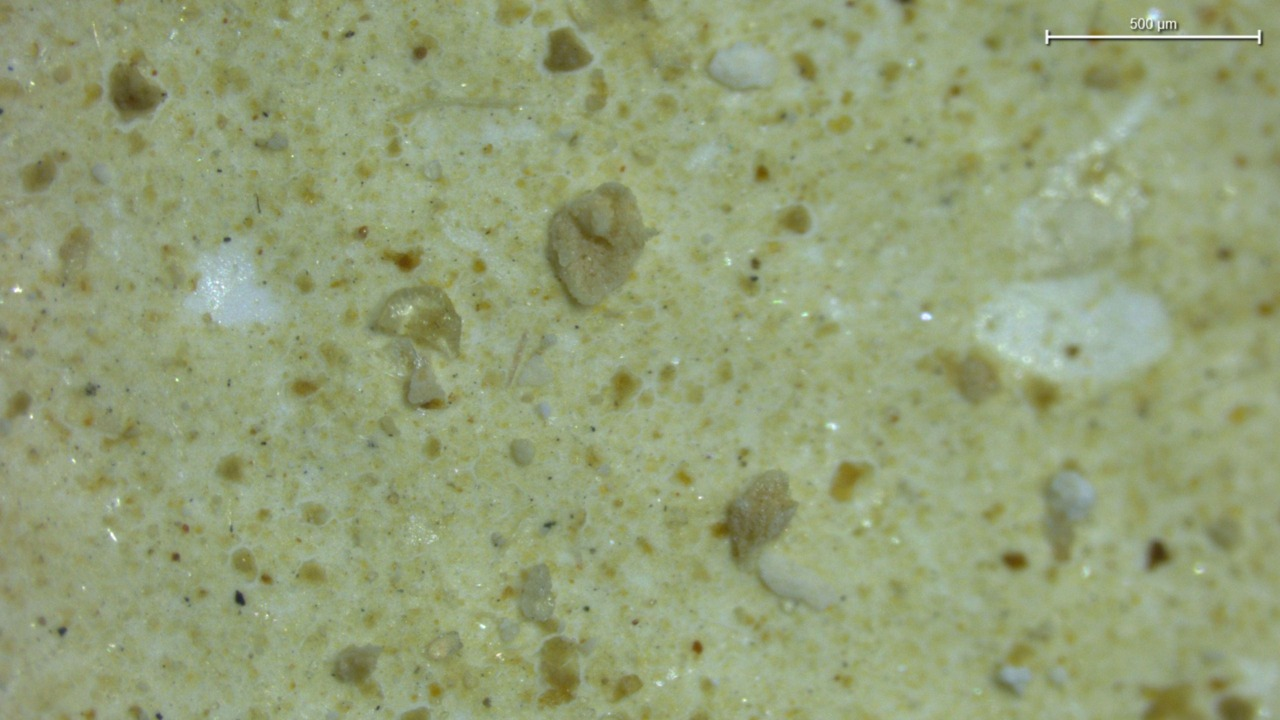microplastic_fragment: (547, 183, 653, 305), (726, 470, 798, 558), (372, 285, 462, 355), (759, 550, 838, 610), (708, 42, 778, 90), (516, 563, 554, 621), (408, 353, 448, 406)
